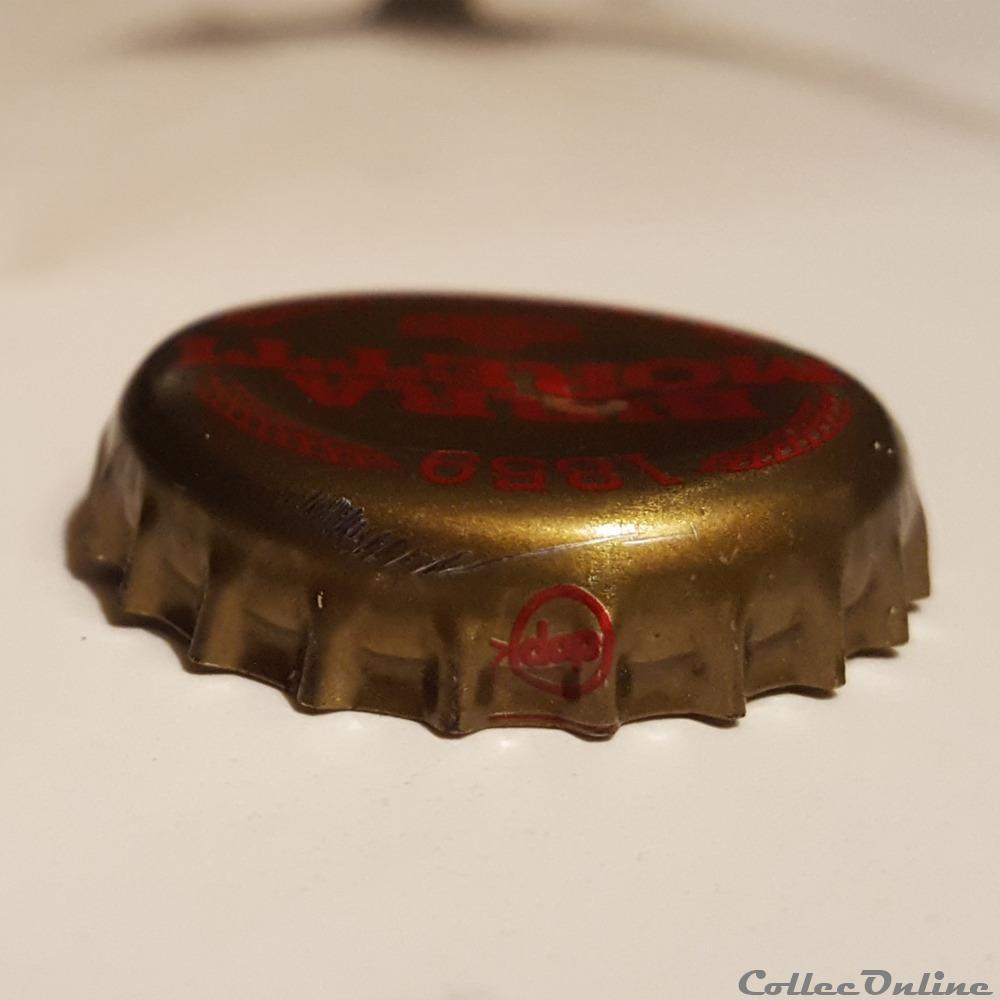metal: (69, 294, 931, 738)
